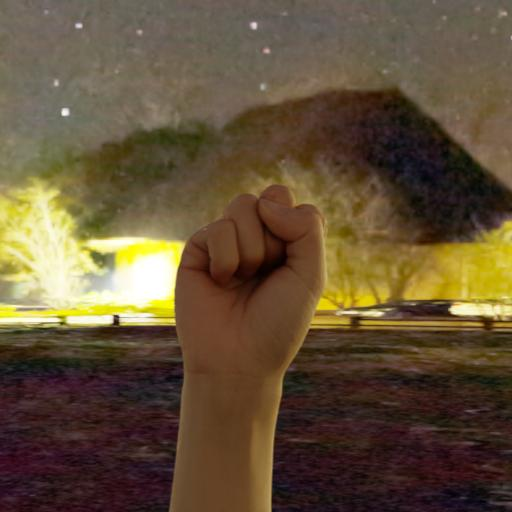S: (171, 180, 330, 380)
